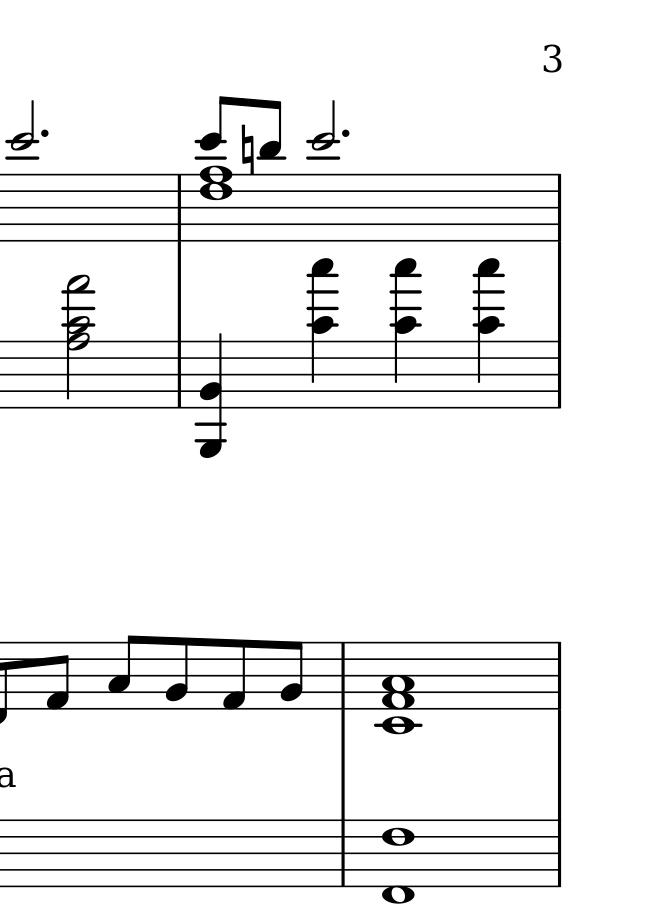1_6_8: (199, 164, 232, 246)
1_th: (374, 641, 422, 736)
2_-1_6: (383, 819, 417, 907)
2_-5_2: (196, 332, 226, 461)
2_12: (6, 101, 41, 245), (306, 97, 340, 244)
2_th: (62, 271, 96, 409)
4_10_17: (307, 256, 337, 410), (390, 257, 420, 411), (473, 256, 503, 410)
8_1: (219, 638, 248, 714), (45, 641, 72, 711)
8_11: (256, 97, 284, 244)
8_2: (164, 635, 191, 712), (281, 640, 305, 713)
8_3: (106, 634, 142, 710)
Natural: (240, 123, 257, 178)
Single_barline: (548, 819, 567, 887), (334, 642, 352, 710), (334, 819, 352, 886), (549, 341, 566, 408), (171, 340, 187, 409), (550, 643, 566, 711), (550, 175, 566, 240), (171, 175, 186, 241)
dot: (37, 126, 51, 142), (339, 126, 351, 140)
